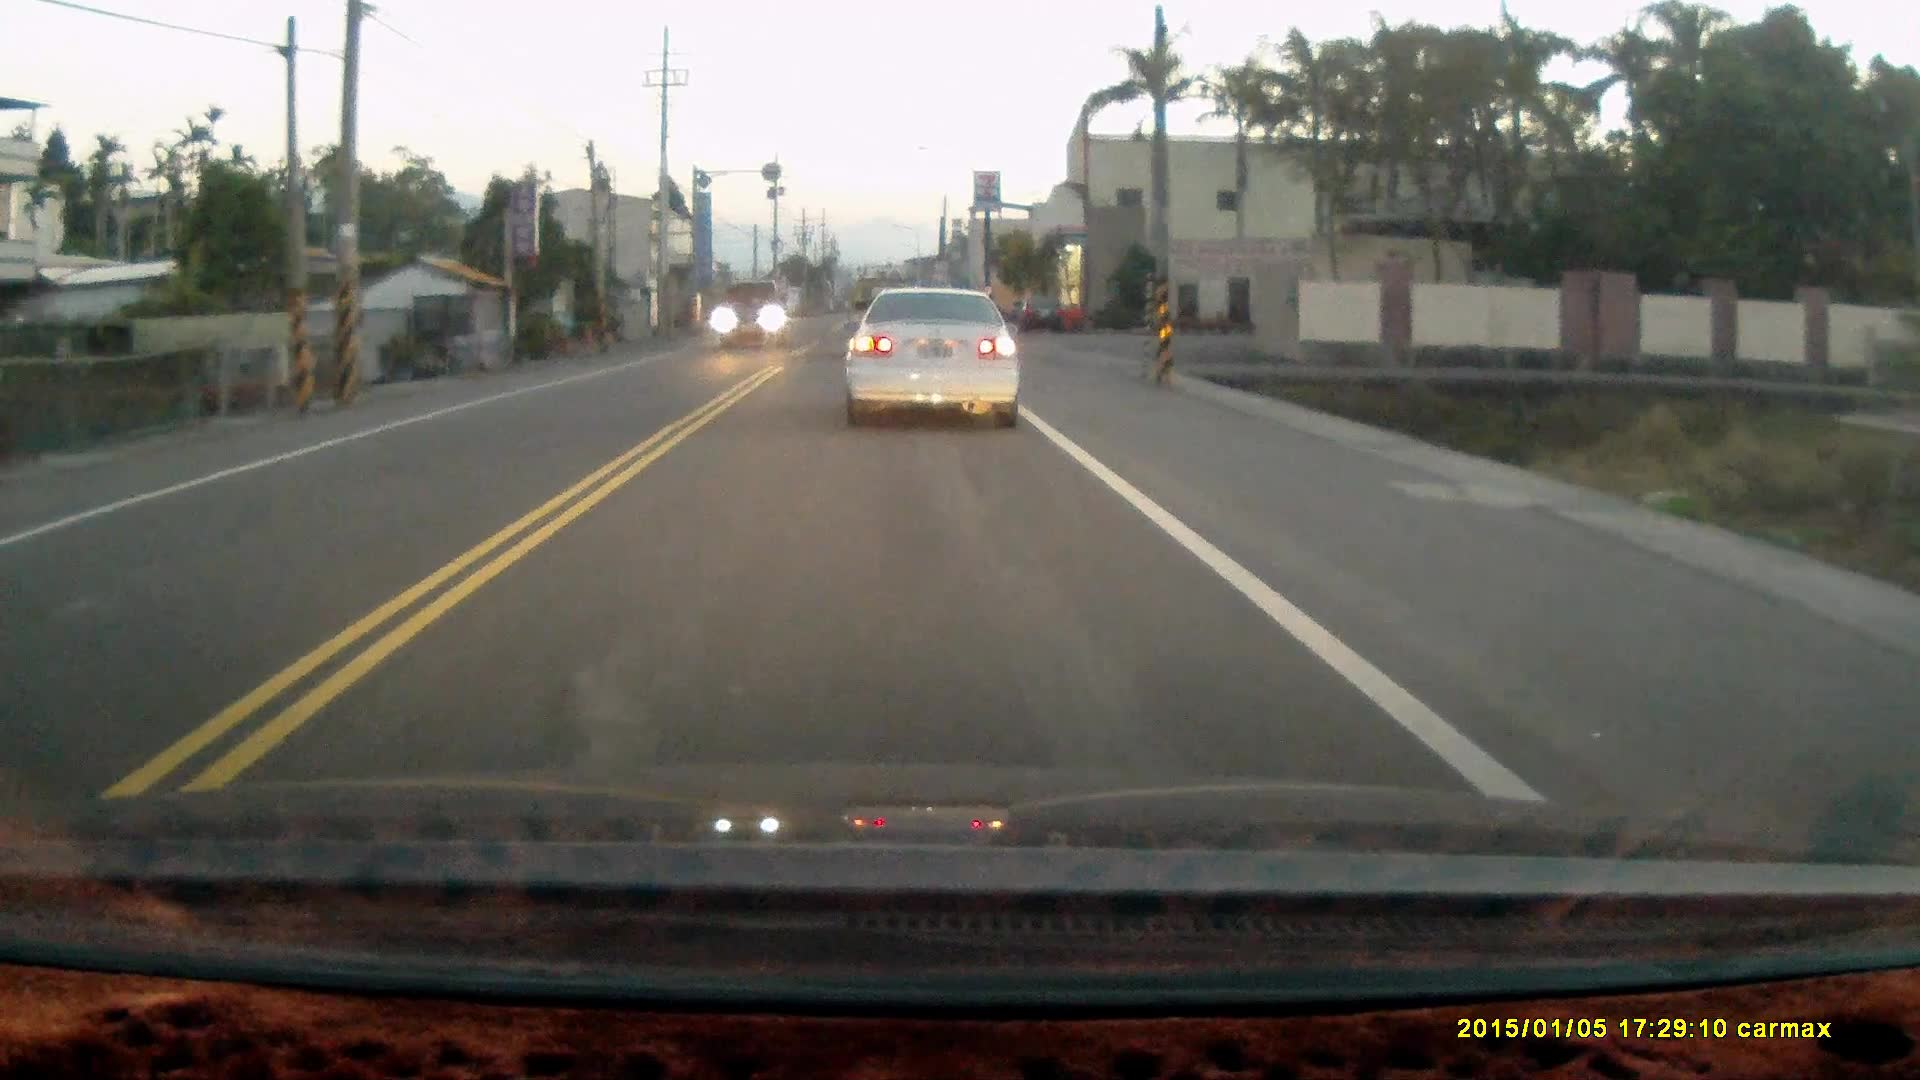vehicle: (843, 287, 1026, 429), (717, 281, 796, 349), (1013, 291, 1064, 335)
